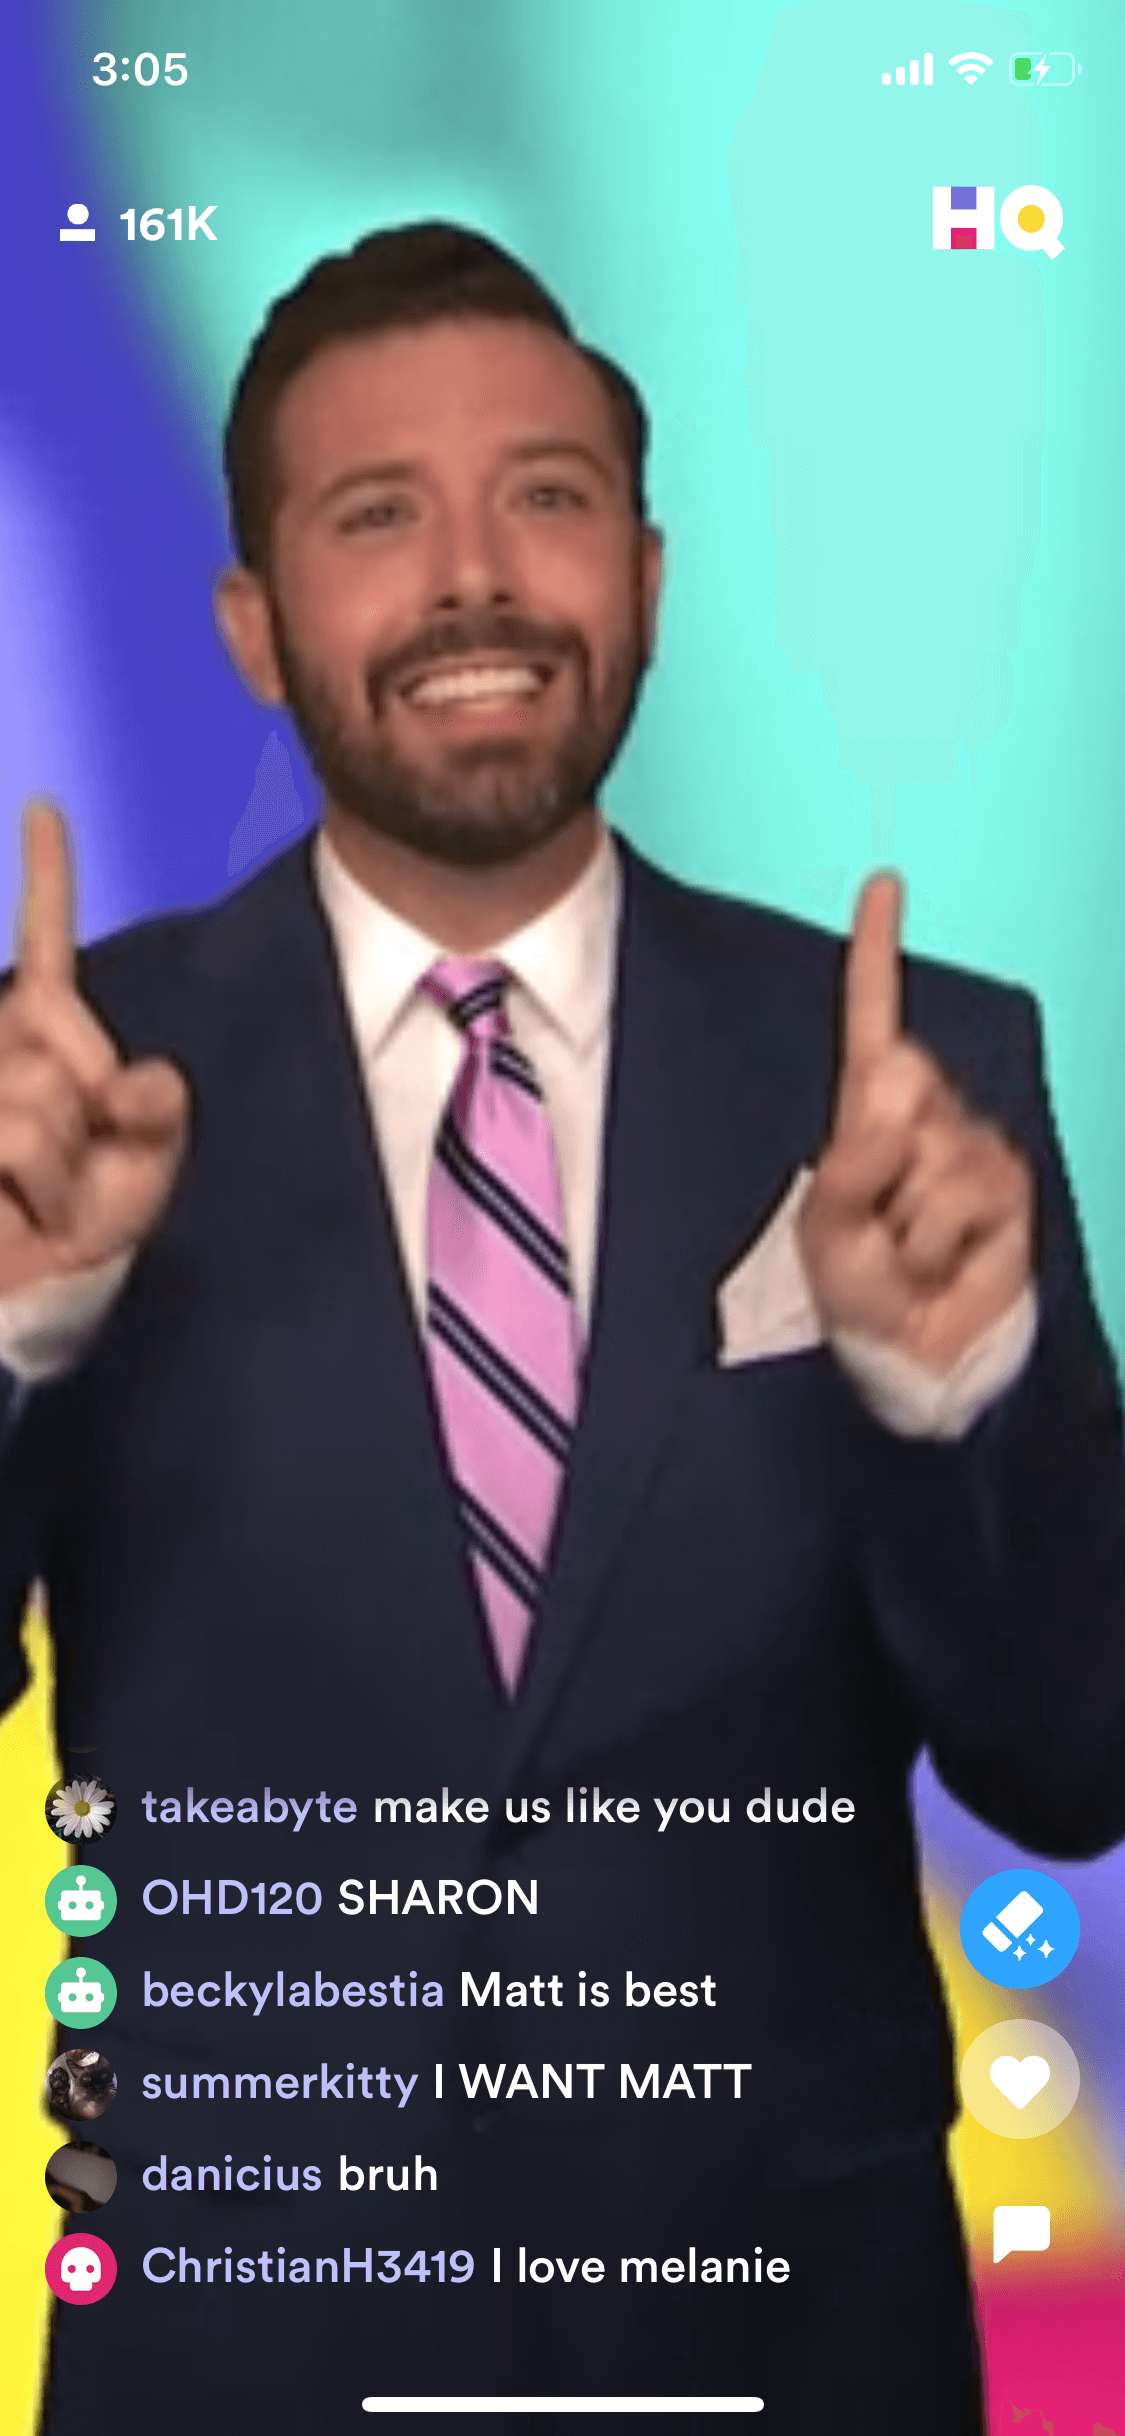FAB (Floating Action Button): (942, 1857, 1100, 1998), (942, 2017, 1102, 2155), (943, 2180, 1097, 2299)
